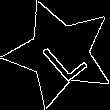L_NW: (30, 25, 88, 83)
